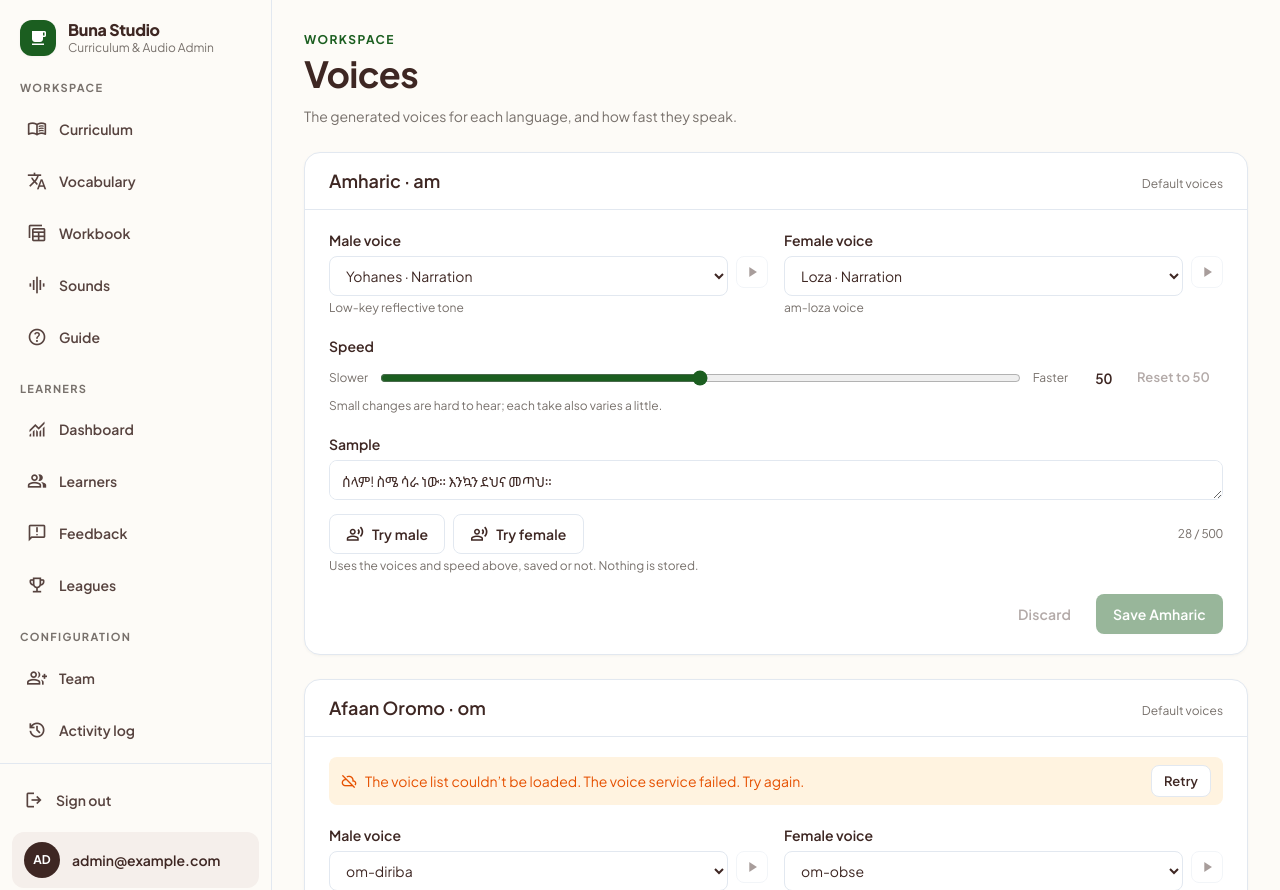
the voices page › a voice list that fails to load says so on its card, with Retry
Expected: the text "The voice list couldn’t be loaded" is shown, [365,772,584,790]
Expected: the text "Low-key reflective tone" is shown, [329,300,464,315]
What coordinates should you click on to do the following:
click the button "Retry"
I would click on:
 (1181, 781)
Its box is [1151,765,1211,797].
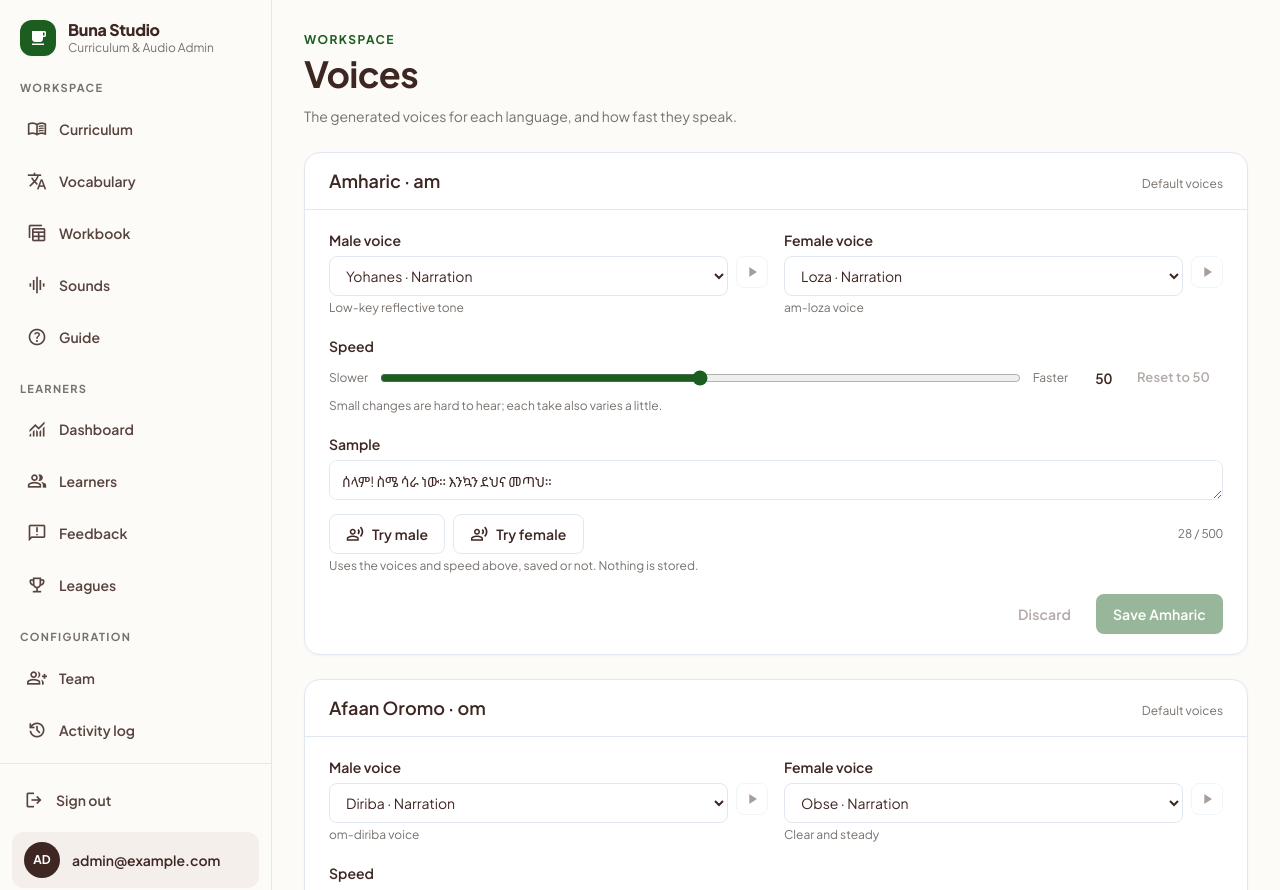
Now the text "The voice list couldn’t be loaded" is gone
Now the text "Clear and steady" is shown, box [784,827,879,842]
